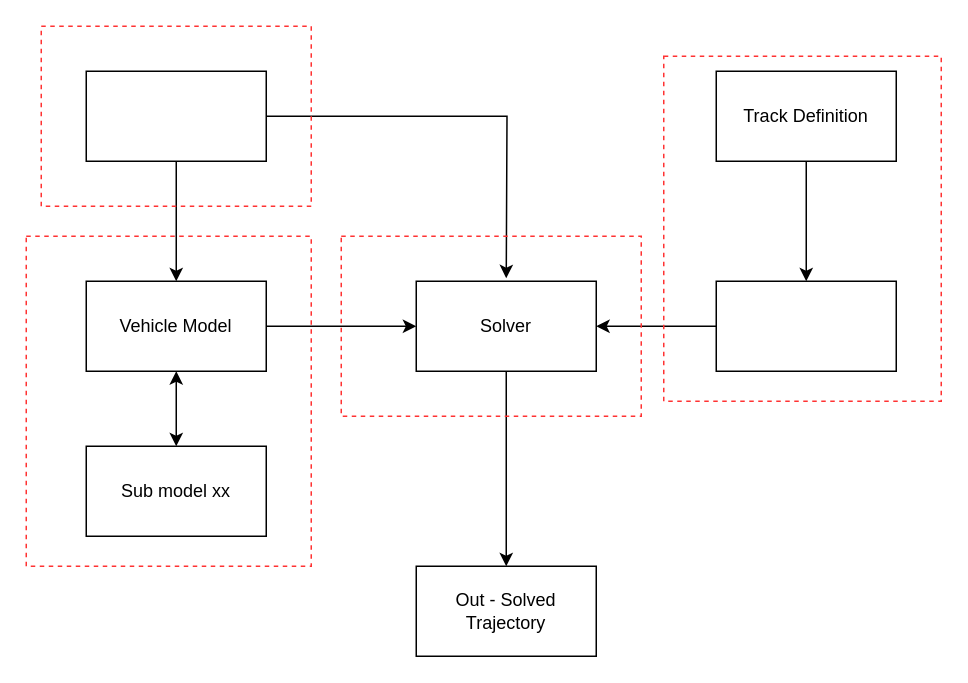
Some shapes in this 968 by 683 pixel diagram are drawn without their labels. Here are the shapes that lost their labels. From the top down, the box of each, then its label:
(85, 70, 266, 161): Parameterisation
(715, 280, 896, 371): Trajectory
